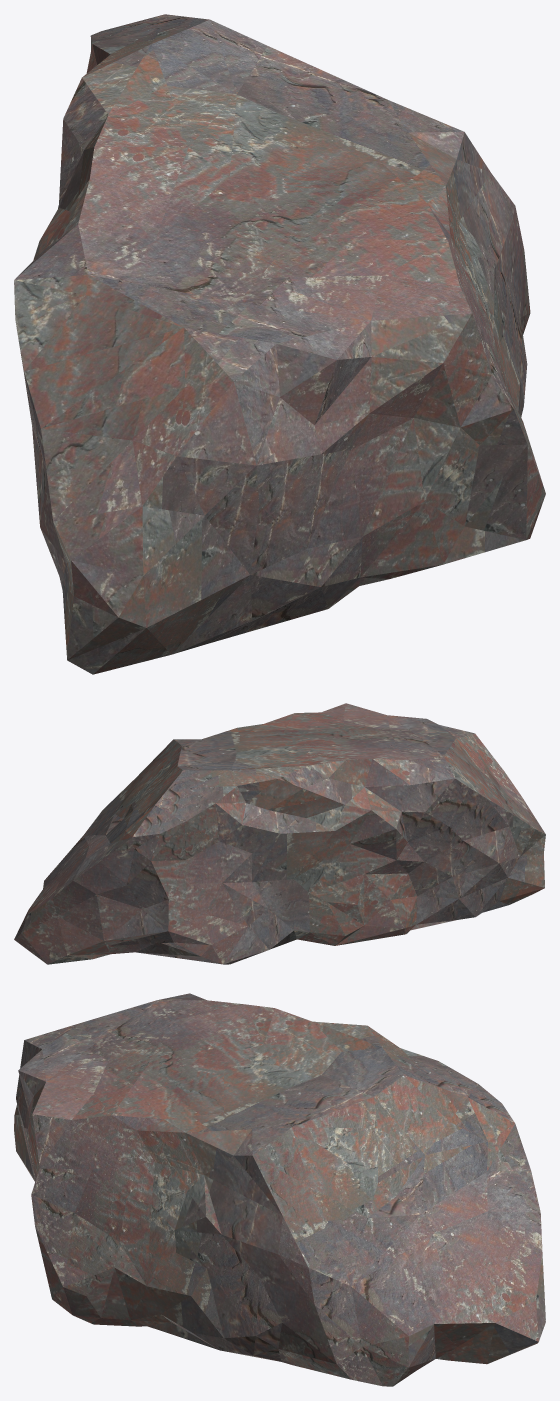
3 views of the same model, one above another, from view 1: azimuth 30°, elevation 25°; view 2: azimuth 150°, elevation 25°; view 3: azimuth 270°, elevation 25° (orthographic). The views are drawn at different scales.
Parts seen in each view (by area): view 1: skpD4; view 2: skpD4; view 3: skpD4.
Boxes of the visible parts, x1,y1,x2,y2 form: skpD4: [14, 14, 545, 674]; skpD4: [14, 703, 545, 964]; skpD4: [14, 993, 545, 1386].
Size of the model in its own units: 28.24 by 14.19 by 29.16.
